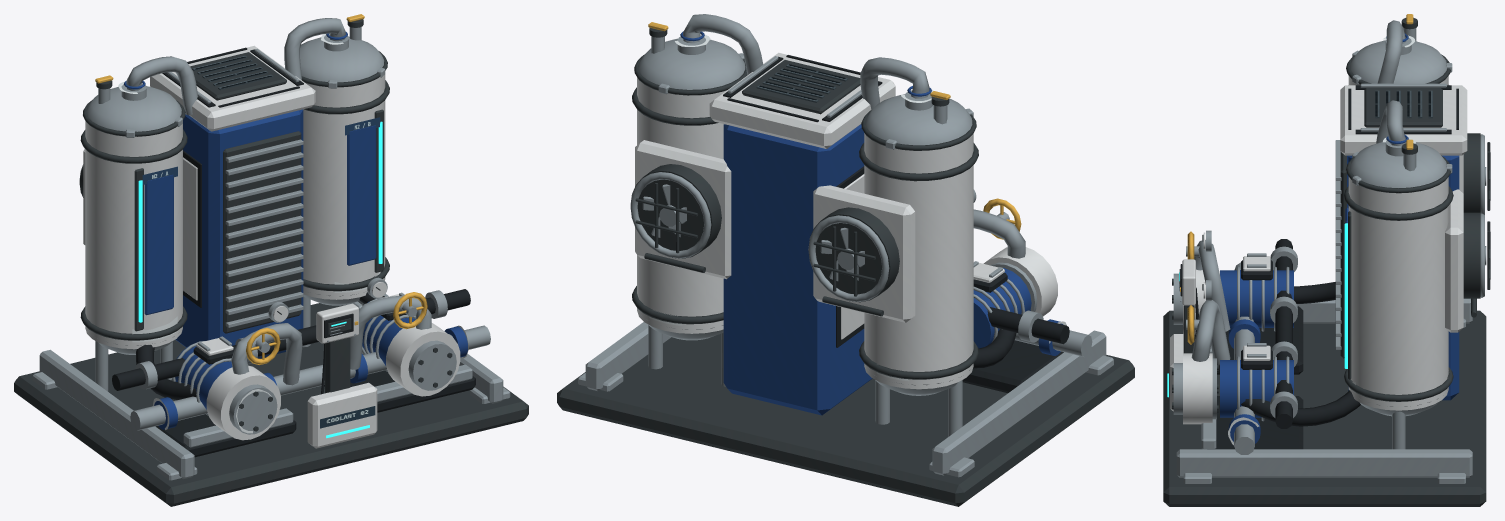
File: 09_cooling_reservoir_pumps.gltf
3 views of the same model, side by side, from view 1: azimuth 30°, elevation 25°; view 2: azimuth 150°, elevation 25°; view 3: azimuth 270°, elevation 25° (orthographic). The views are drawn at different scales.
Visible parts, largest first — view 1: 09_Cryo_Anodized_Frame.001, 09_Cryo_Brushed_Steel.001, 09_Cryo_Ceramic_Enamel.001, 09_Cryo_Cobalt_Enamel, 09_Cryo_EPDM_Gasket.001, 09_Cryo_Anodized_Frame, 09_Cryo_Cyan_Practical.001, 09_Cryo_Safety_Paint.001, 09_Metal_Recessed_maintenance_grate, 09_CRYO_SHARED_SIGNAGE_005, 09_Cryo_Ceramic_Enamel, 09_Cryo_Selective_Frost; view 2: 09_Cryo_Anodized_Frame.001, 09_Cryo_Ceramic_Enamel.001, 09_Cryo_Brushed_Steel.001, 09_Cryo_Cobalt_Enamel, 09_Cryo_EPDM_Gasket.001, 09_Metal_Recessed_maintenance_grate, 09_Cryo_Safety_Paint.001; view 3: 09_Cryo_Anodized_Frame.001, 09_Cryo_Brushed_Steel.001, 09_Cryo_Ceramic_Enamel.001, 09_Cryo_EPDM_Gasket.001, 09_Cryo_Cobalt_Enamel, 09_Metal_Recessed_maintenance_grate, 09_Cryo_Safety_Paint.001, 09_Cryo_Ceramic_Enamel, 09_Cryo_Cyan_Practical.001.
Part boxes in pixels (x1,y1,x2,y2): 09_Cryo_Anodized_Frame.001: (14, 19, 528, 506); 09_Cryo_Brushed_Steel.001: (32, 18, 510, 480); 09_Cryo_Ceramic_Enamel.001: (83, 45, 460, 448); 09_Cryo_Cobalt_Enamel: (124, 32, 467, 429); 09_Cryo_EPDM_Gasket.001: (112, 47, 475, 457); 09_Cryo_Anodized_Frame: (325, 318, 351, 393); 09_Cryo_Cyan_Practical.001: (138, 121, 382, 438); 09_Cryo_Safety_Paint.001: (95, 14, 427, 364); 09_Metal_Recessed_maintenance_grate: (192, 55, 273, 89); 09_CRYO_SHARED_SIGNAGE_005: (142, 117, 380, 428); 09_Cryo_Ceramic_Enamel: (316, 303, 358, 343); 09_Cryo_Selective_Frost: (118, 34, 468, 433); 09_Cryo_Anodized_Frame.001: (557, 28, 1134, 506); 09_Cryo_Ceramic_Enamel.001: (635, 52, 1057, 389); 09_Cryo_Brushed_Steel.001: (578, 14, 1113, 477); 09_Cryo_Cobalt_Enamel: (680, 31, 1063, 415); 09_Cryo_EPDM_Gasket.001: (723, 55, 1069, 393); 09_Metal_Recessed_maintenance_grate: (756, 64, 847, 102); 09_Cryo_Safety_Paint.001: (648, 22, 1021, 239); 09_Cryo_Anodized_Frame.001: (1163, 17, 1490, 506); 09_Cryo_Brushed_Steel.001: (1173, 20, 1486, 483); 09_Cryo_Ceramic_Enamel.001: (1170, 76, 1467, 424); 09_Cryo_EPDM_Gasket.001: (1207, 85, 1458, 449); 09_Cryo_Cobalt_Enamel: (1220, 33, 1459, 443); 09_Metal_Recessed_maintenance_grate: (1375, 90, 1432, 118); 09_Cryo_Safety_Paint.001: (1187, 14, 1413, 344); 09_Cryo_Ceramic_Enamel: (1182, 259, 1195, 305); 09_Cryo_Cyan_Practical.001: (1167, 223, 1347, 397).
Size of the model in its own units: 3.48 by 3.15 by 2.66.
10 materials, 7 textured.
